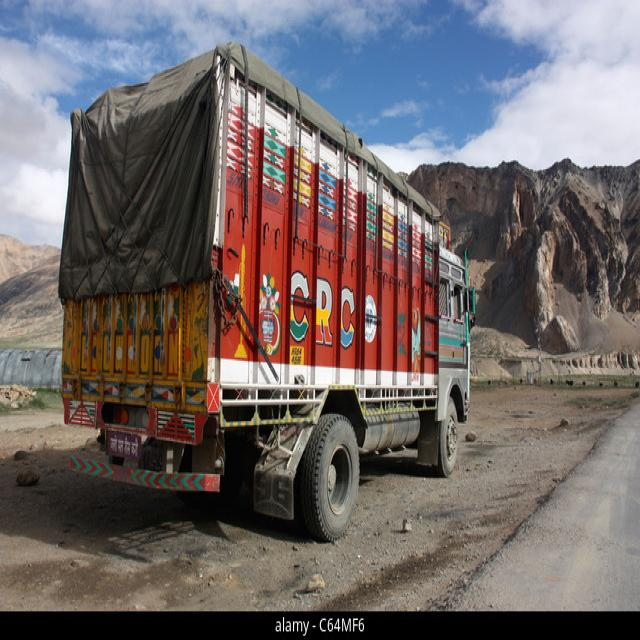normal_truck: (57, 43, 478, 546)
